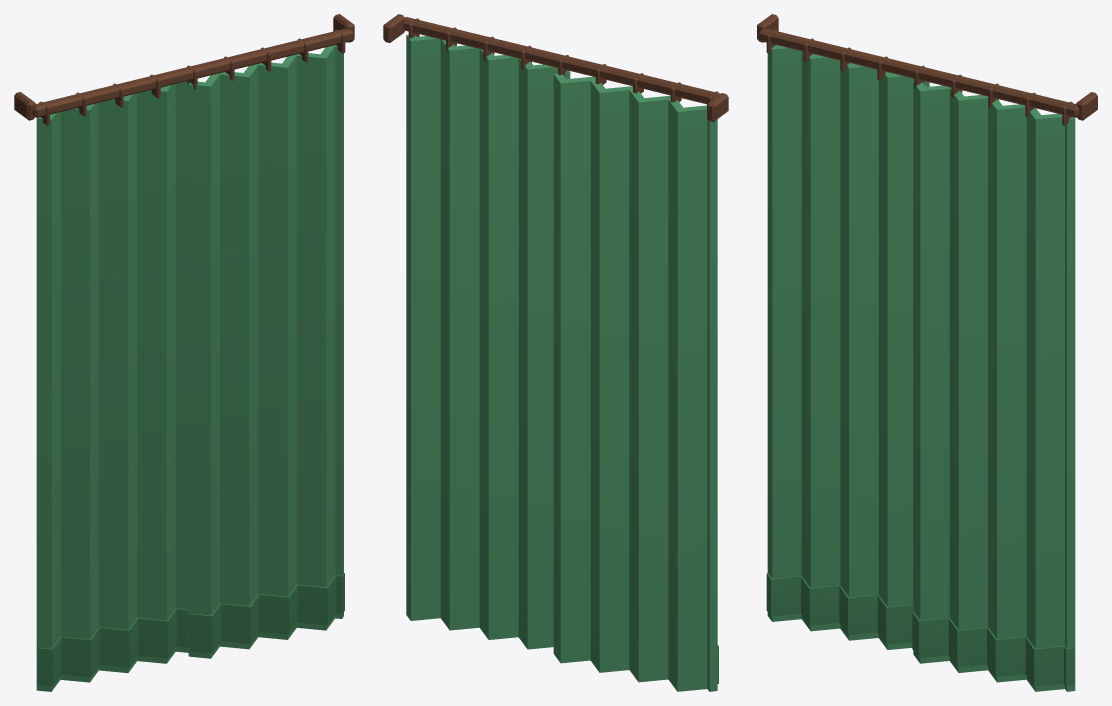
File: cortina-classico.glb
3 views of the same model, side by side, from view 1: azimuth 30°, elevation 25°; view 2: azimuth 150°, elevation 25°; view 3: azimuth 330°, elevation 25° (orthographic).
Parts seen in each view (by area): view 1: pano, barra, varao; view 2: pano, varao; view 3: pano, barra, varao.
Boxes of the visible parts, box(x1,y1,x2,y2) form: pano: box(36, 45, 343, 691); barra: box(37, 573, 344, 686); varao: box(14, 14, 354, 125); pano: box(406, 34, 717, 691); varao: box(383, 14, 728, 121); pano: box(767, 45, 1075, 691); barra: box(766, 573, 1074, 686); varao: box(757, 14, 1097, 125).
Size of the model in its own units: 1.11 by 1.91 by 0.1515.
